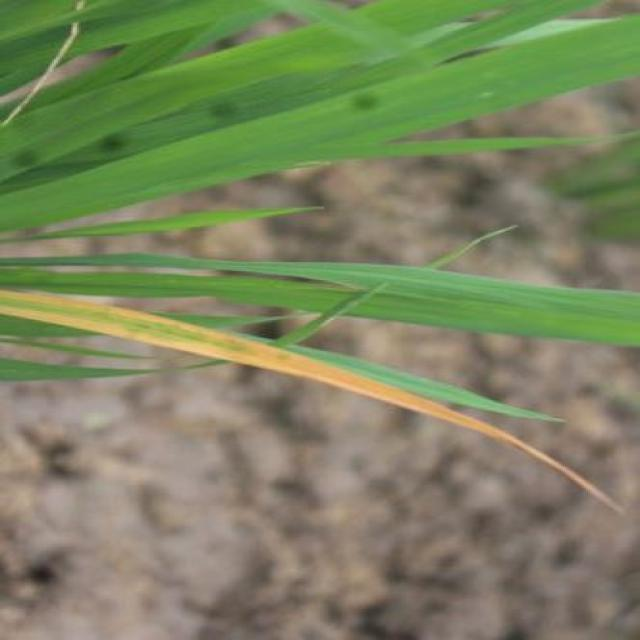Rice Tungro: (35, 316, 635, 547)
